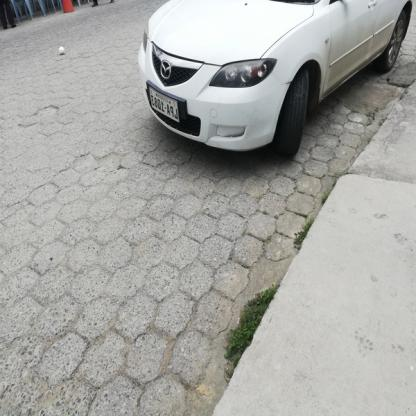Placa: (143, 86, 187, 125)
